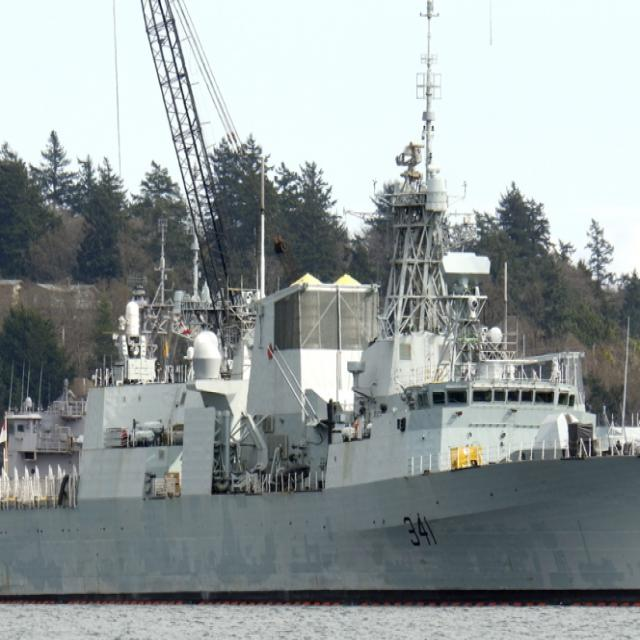Fragata: (1, 109, 640, 613)
